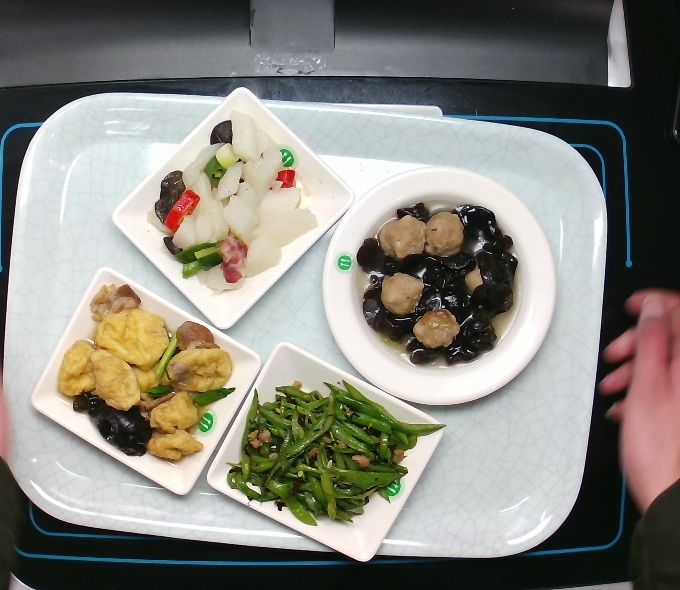wcq-MuErWanZi: (339, 187, 531, 377)
wcq-ShanYao: (141, 106, 323, 297)
wcq-SiJiDouChaoRou: (222, 373, 452, 531)
wcq-YouPaoRouPian: (48, 278, 242, 470)
